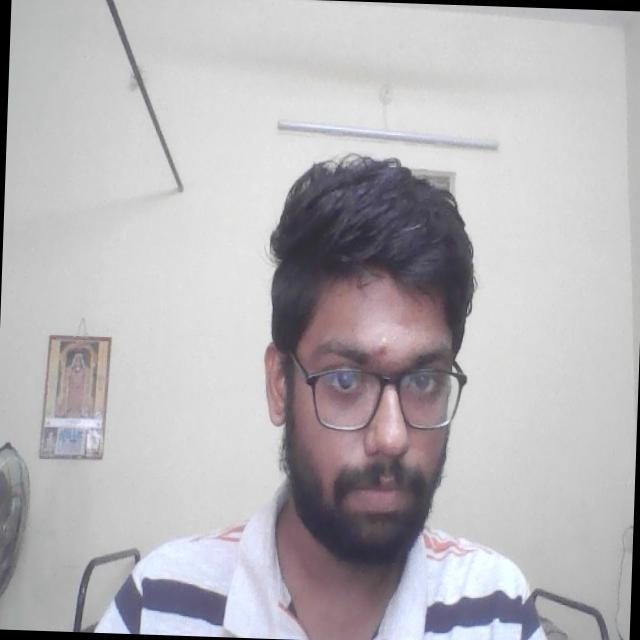Focused: (272, 290, 460, 526)
